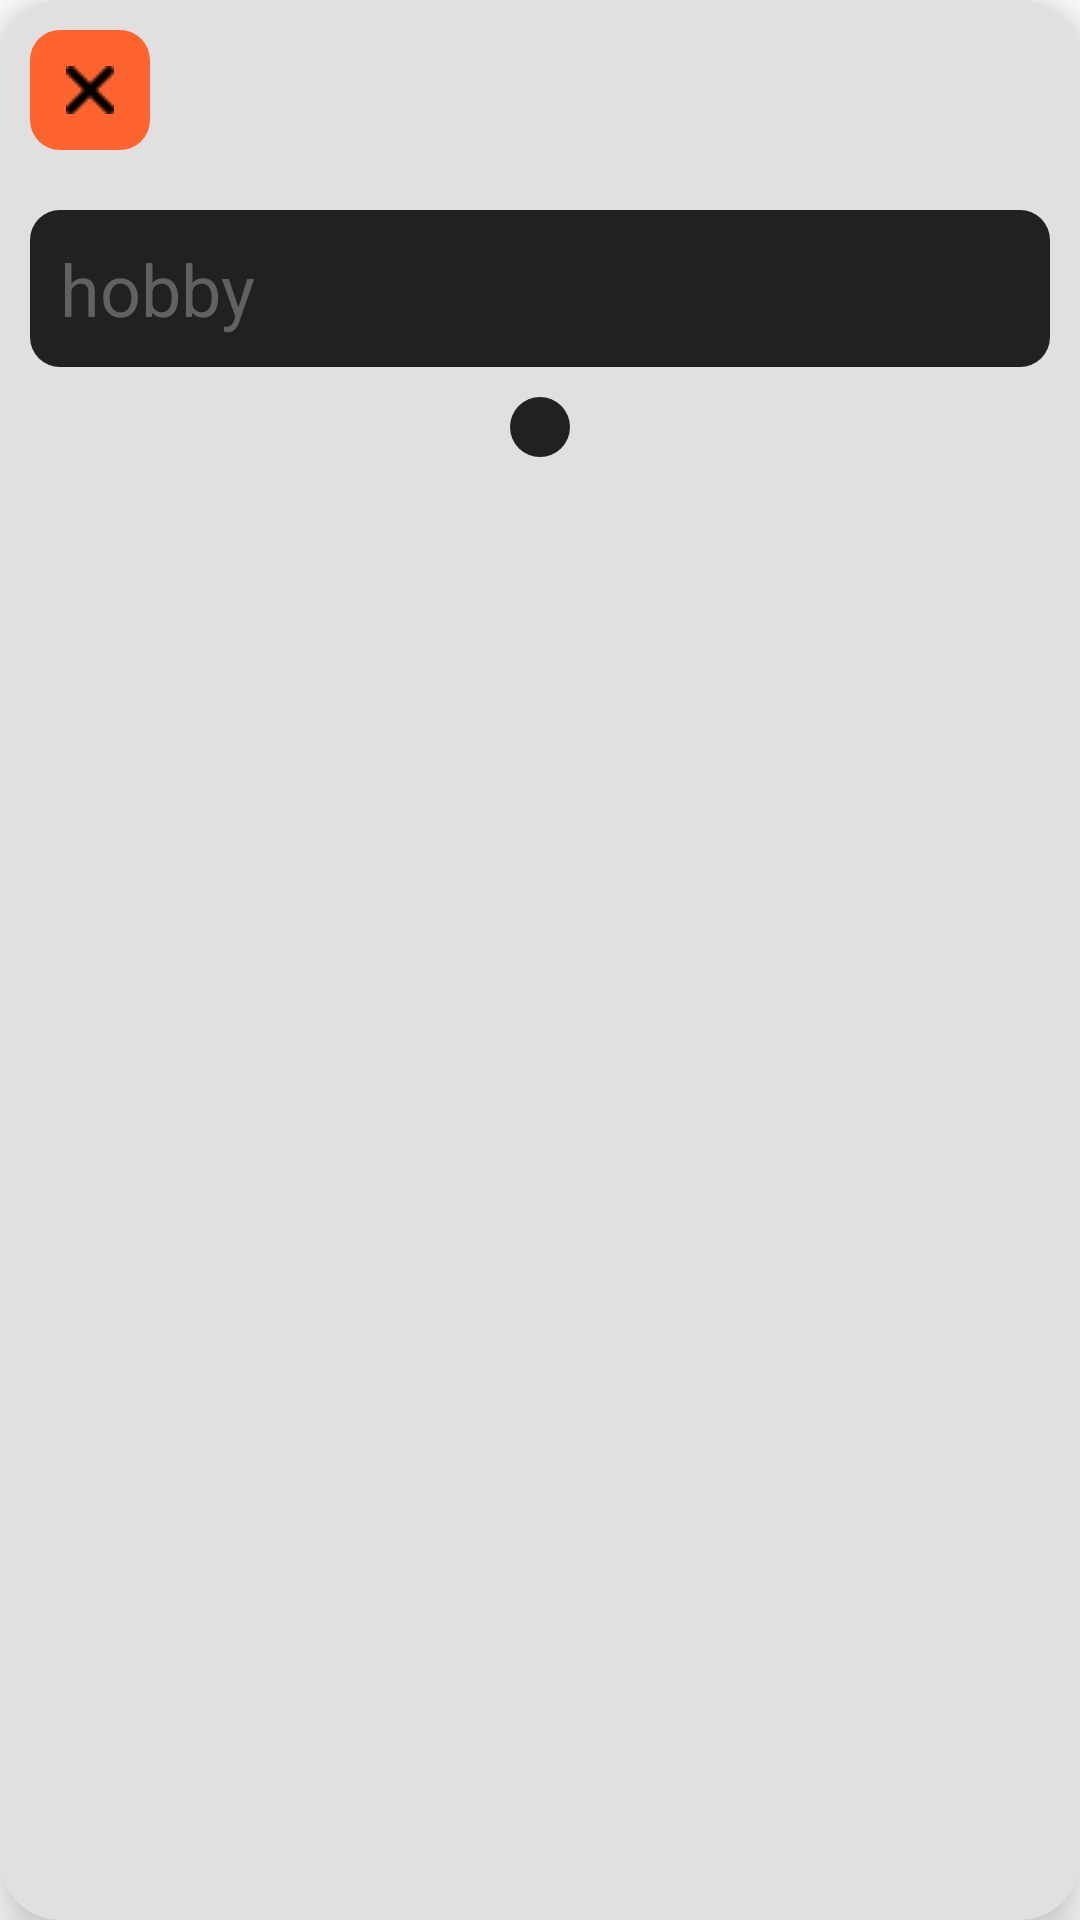

Icon bounding boxes for this 1080x1920 phone screenshot, format (x1, y1, x2, y2):
close: (30, 30, 150, 150)
